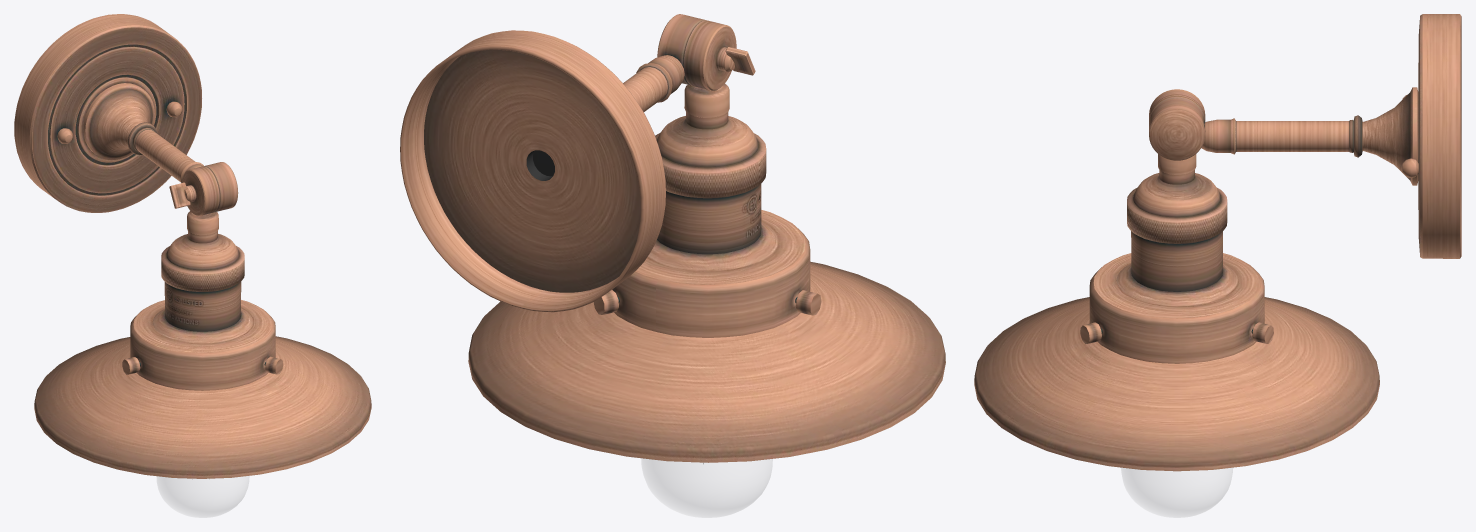
File: AnisotropyBarnLamp.glb
The picture shows the model from 3 angles, left to right: view 1: azimuth 30°, elevation 25°; view 2: azimuth 150°, elevation 25°; view 3: azimuth 270°, elevation 25°; orthographic projection. The views are drawn at different scales.
Visible parts, largest first — view 1: Lamp Metal, Lamp Glass; view 2: Lamp Metal, Lamp Glass; view 3: Lamp Metal, Lamp Glass.
Boxes of the visible parts, <box> form: Lamp Metal: <box>14,14,371,479</box>; Lamp Glass: <box>157,476,249,517</box>; Lamp Metal: <box>400,14,945,464</box>; Lamp Glass: <box>641,458,772,517</box>; Lamp Metal: <box>974,14,1461,471</box>; Lamp Glass: <box>1121,468,1232,517</box>.
Size of the model in its own units: 0.1908 by 0.2552 by 0.2265.
Materials: 3 (1 with a texture image).
